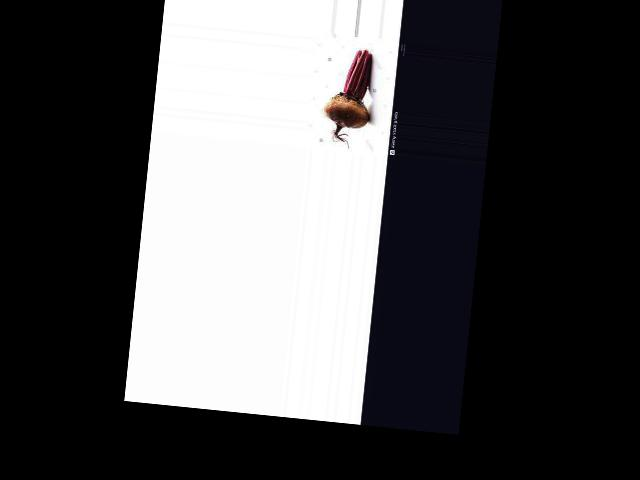beet: (321, 46, 376, 149)
